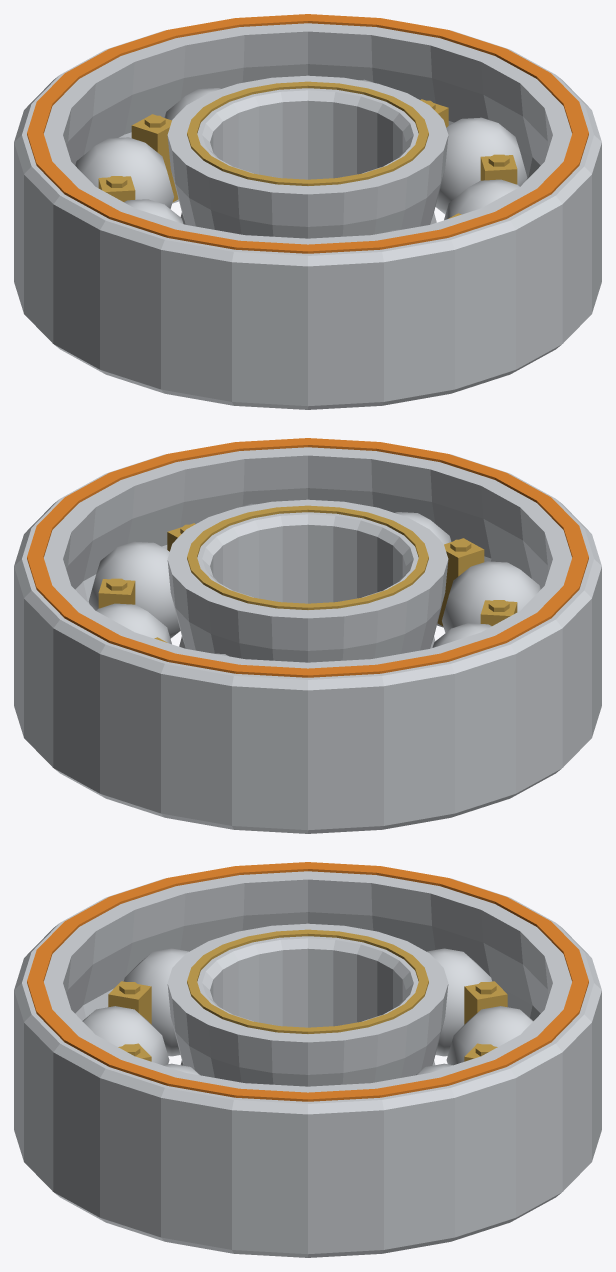
The model's file is bearing_quality.glb.
The picture shows the model from 3 angles, top to bottom: view 1: azimuth 30°, elevation 25°; view 2: azimuth 150°, elevation 25°; view 3: azimuth 270°, elevation 25°; orthographic projection.
Parts seen in each view (by area): view 1: bearing_quality; view 2: bearing_quality; view 3: bearing_quality.
Boxes of the visible parts, x1,y1,x2,y2 form: bearing_quality: (14, 14, 601, 409); bearing_quality: (14, 438, 601, 833); bearing_quality: (14, 862, 601, 1257).
Bounding box in the file's own units: 0.09 × 0.0264 × 0.09.
